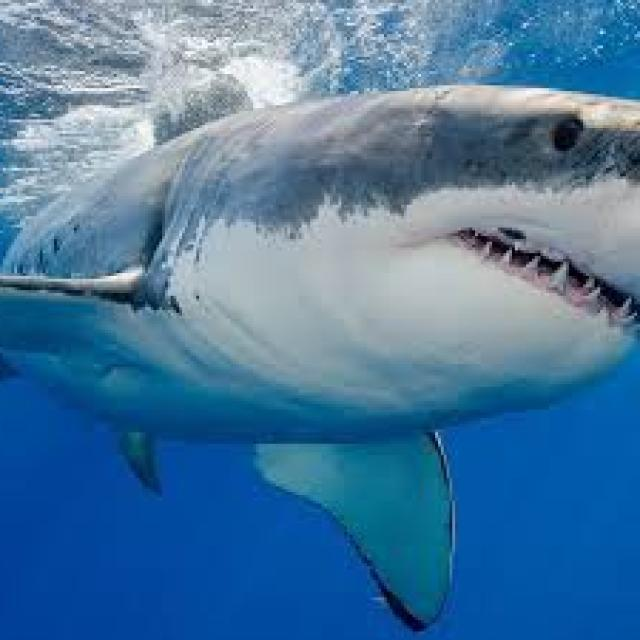shark: (3, 80, 640, 626)
